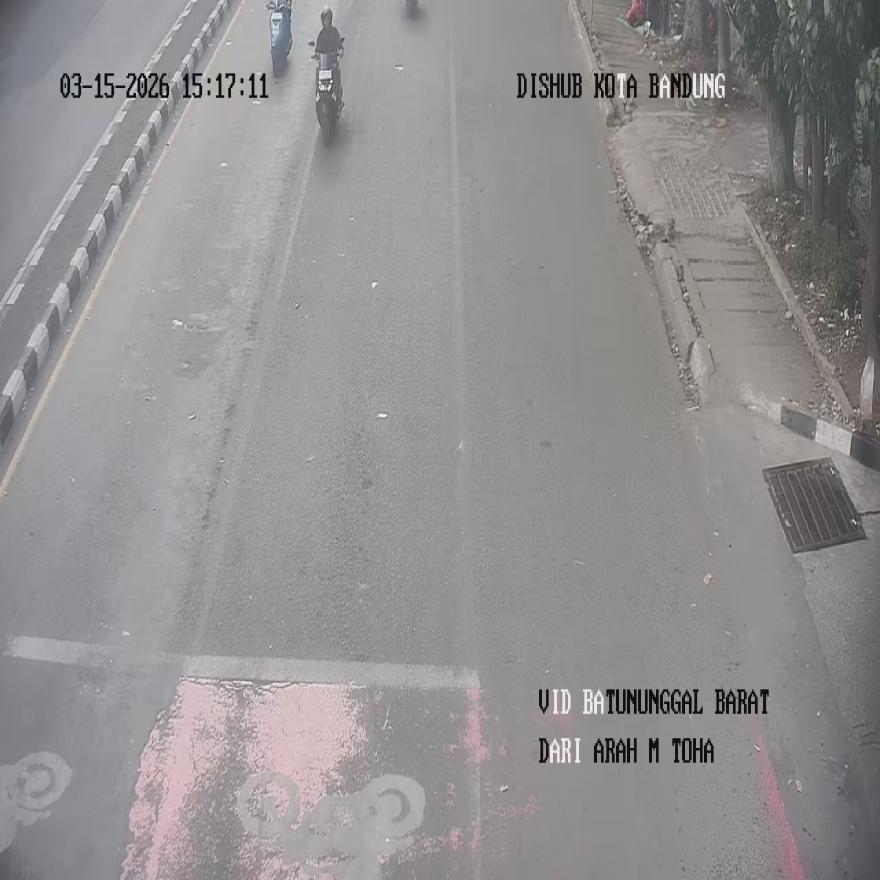Truk: (310, 39, 342, 144), (267, 0, 292, 76)
